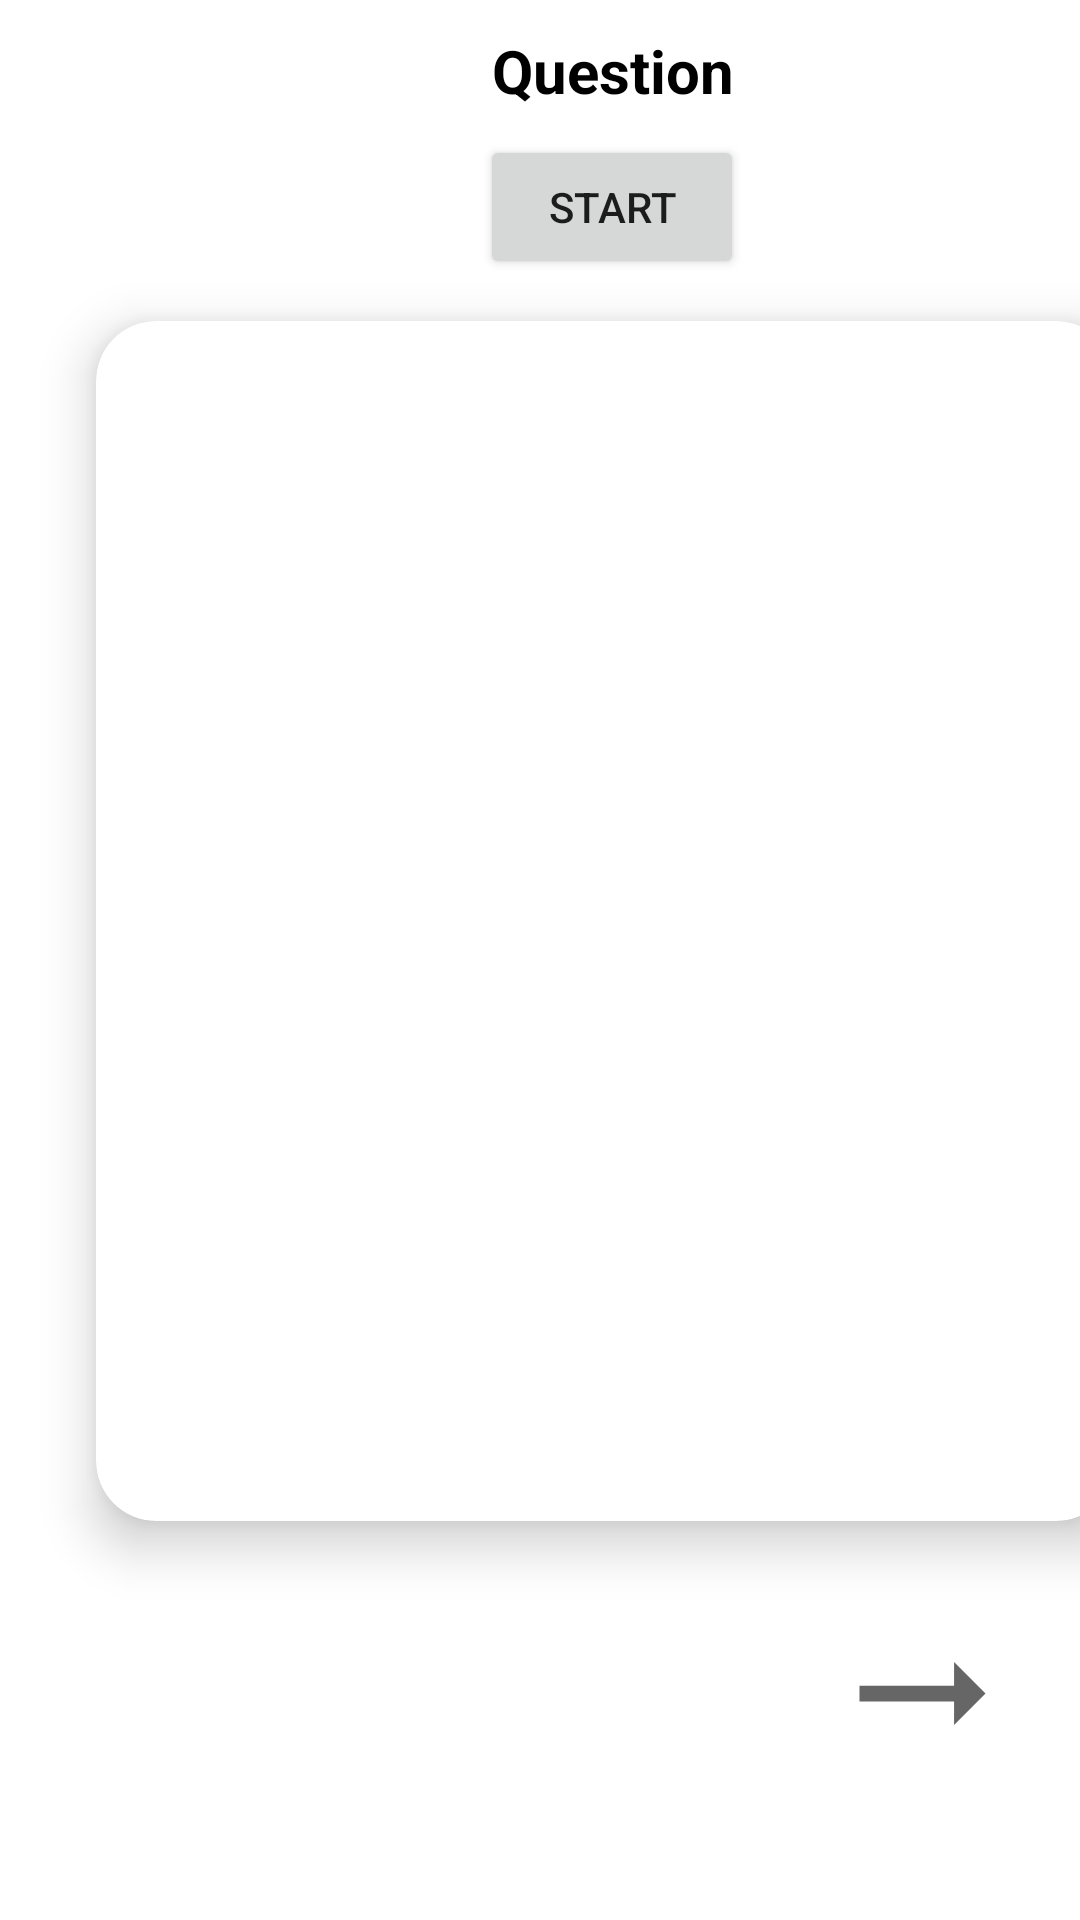

Where icons sit on this 1080px×1920px app screen, as region(x1, y1, x2, y2):
arrow right: region(859, 1662, 986, 1725)
